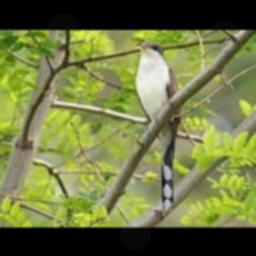Cuckoo: (134, 42, 180, 211)
